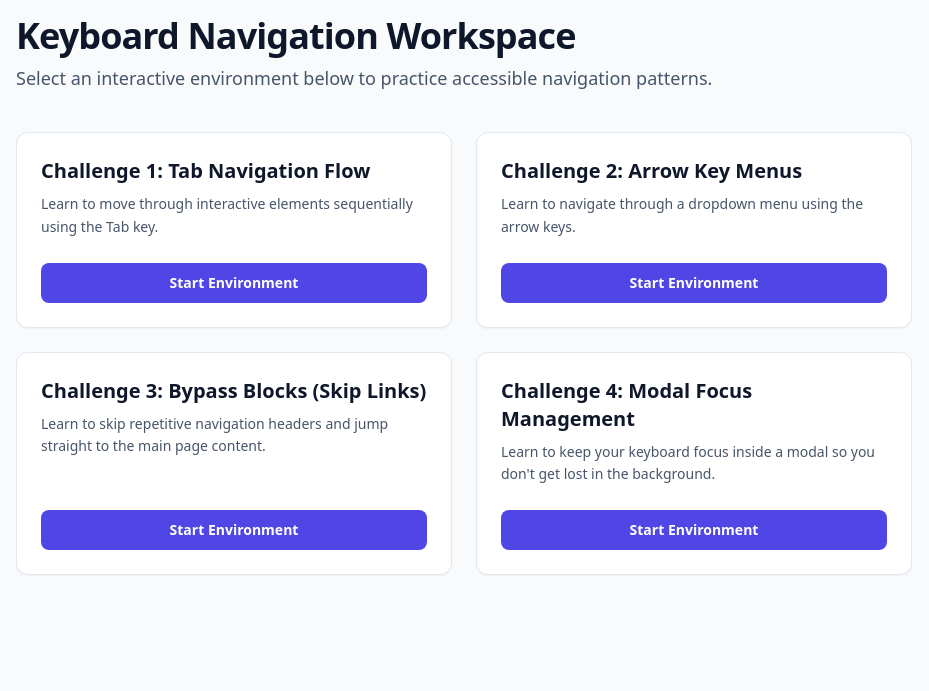
Test: KeyboardTrainer › advances exercise state on correct key press
Click the button "Start Environment" below "Challenge 1: Tab Navigation Flow" at [234, 282], box [41,262,427,302]
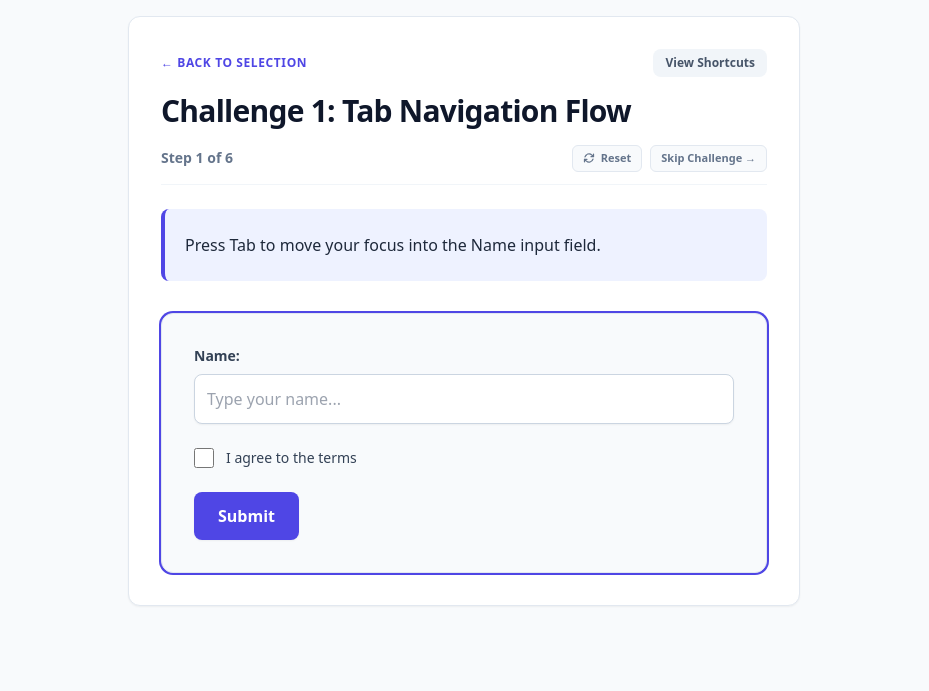
Expected: the text "Step 1 of 6" is shown, [161,148,233,168]
Press Tab
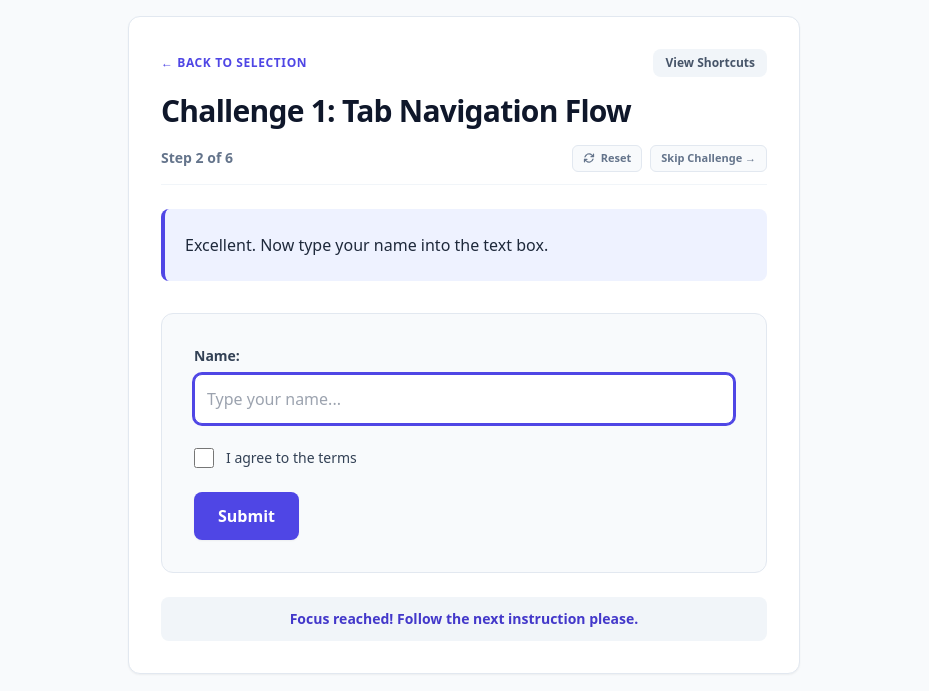
Expected: the text "Step 2 of 6" is shown, [161,148,233,168]
Type "Matanat" into the field at [464, 398], box [194,374,734,424]
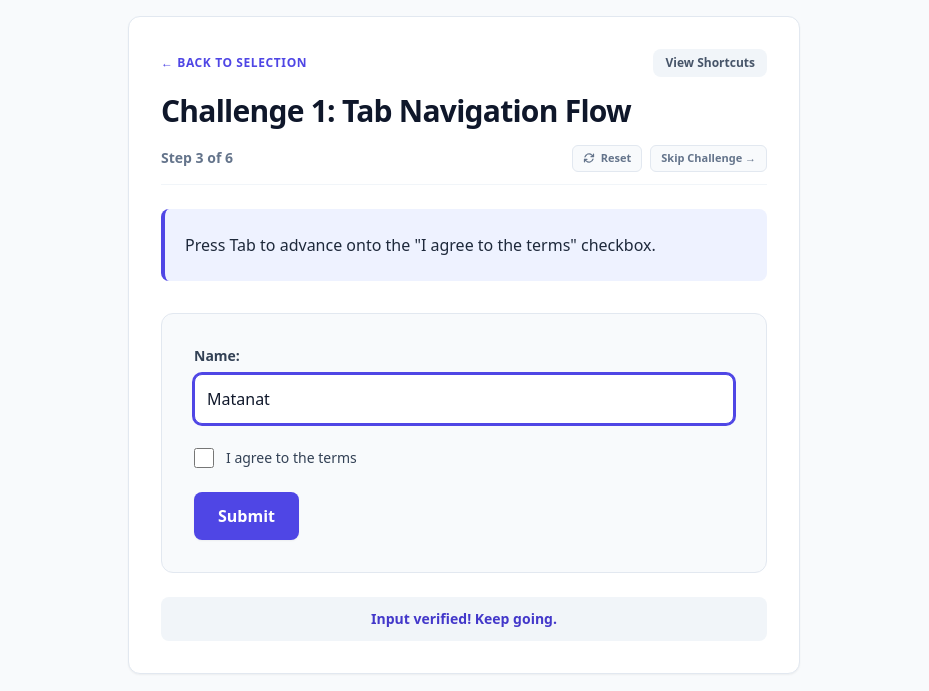
Expected: the text "Step 3 of 6" is shown, [161,148,233,168]
Press Tab
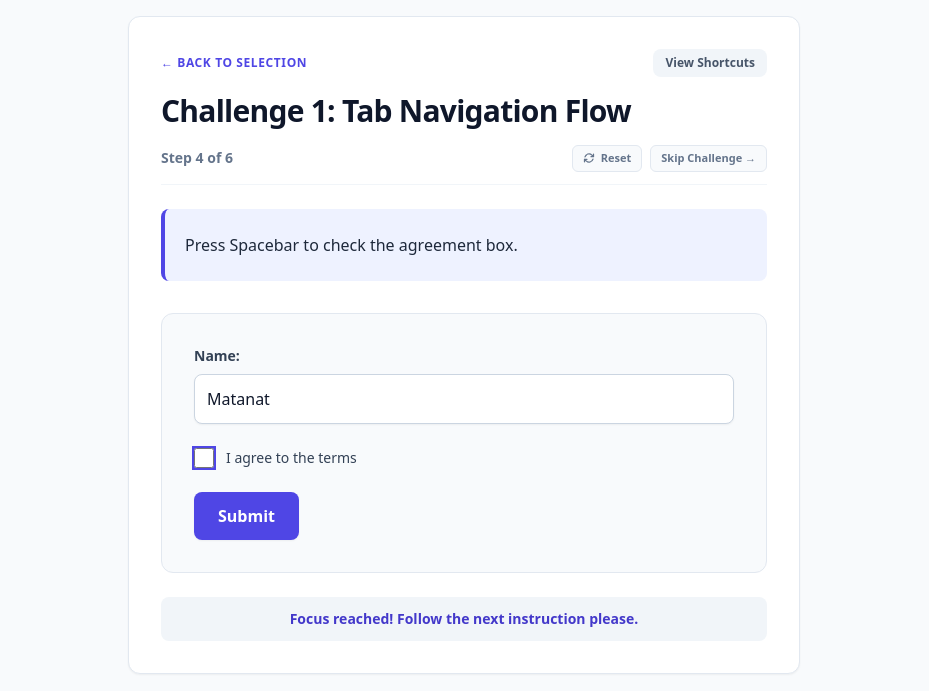
Expected: the text "Step 4 of 6" is shown, [161,148,233,168]
Type keys " "
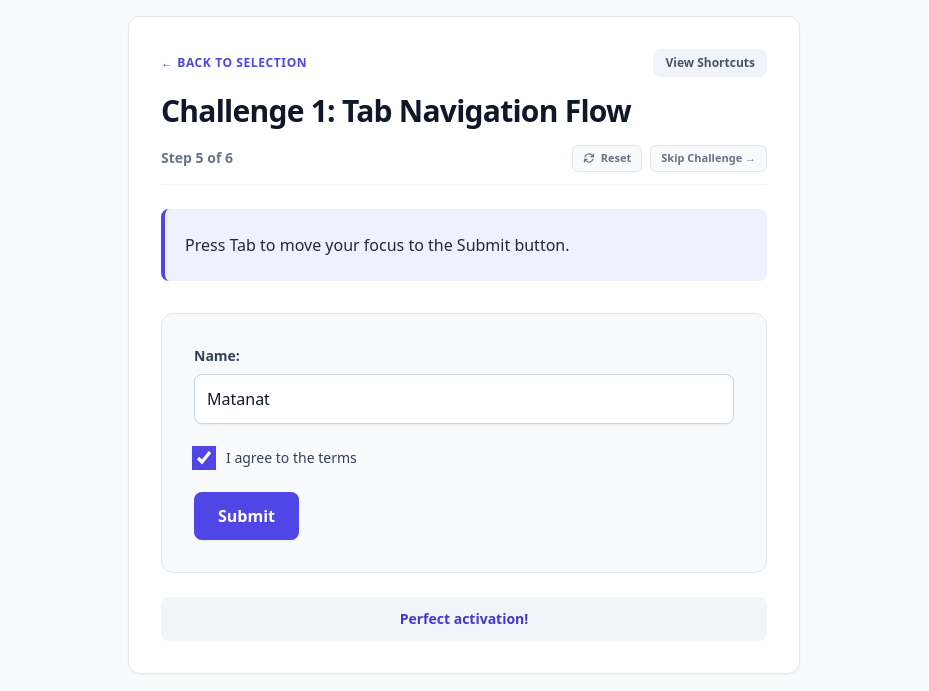
Expected: the checkbox is checked, [194,448,214,468]
Expected: the text "Step 5 of 6" is shown, [161,148,233,168]
